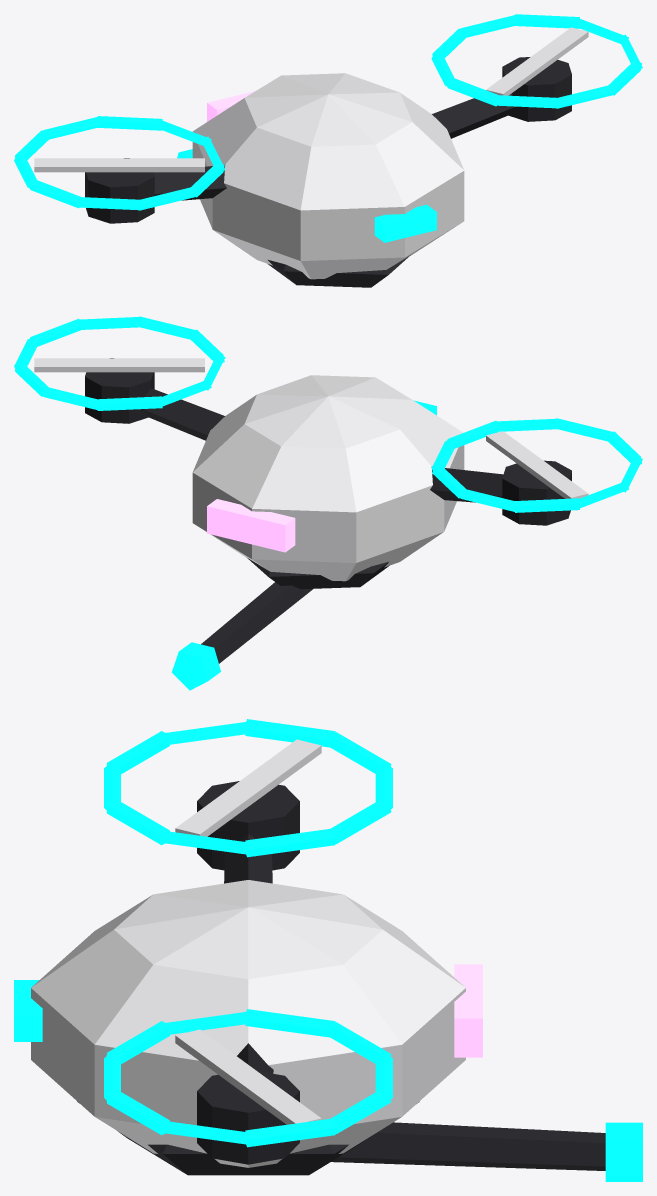
The model's file is SentryDrone.fbx.
3 views of the same model, one above another, from view 1: azimuth 30°, elevation 25°; view 2: azimuth 150°, elevation 25°; view 3: azimuth 270°, elevation 25° (orthographic). The views are drawn at different scales.
Parts seen in each view (by area): view 1: Drone_Body, Drone_RotorRing1, Drone_RotorRing-1, Drone_RotorPod-1, Drone_RotorBlade-1, Drone_RotorPod1, Drone_RotorBlade1, Drone_RotorArm1, Drone_TailLight, Drone_Belly, Drone_RotorArm-1, Drone_Eye; view 2: Drone_Body, Drone_RotorRing-1, Drone_RotorRing1, Drone_Eye, Drone_Gun, Drone_RotorBlade1, Drone_RotorPod1, Drone_RotorPod-1, Drone_RotorBlade-1, Drone_RotorArm1, Drone_GunMuzzle, Drone_Belly (+1 smaller); view 3: Drone_Body, Drone_RotorRing1, Drone_RotorRing-1, Drone_Gun, Drone_RotorPod1, Drone_RotorPod-1, Drone_RotorBlade-1, Drone_RotorBlade1, Drone_Belly, Drone_Eye, Drone_GunMuzzle, Drone_TailLight (+1 smaller).
Boxes of the visible parts, box(x1,y1,x2,y2) form: Drone_Body: box(192, 73, 464, 279); Drone_RotorRing1: box(431, 14, 642, 108); Drone_RotorRing-1: box(14, 116, 225, 210); Drone_RotorPod-1: box(85, 158, 154, 223); Drone_RotorBlade-1: box(34, 158, 204, 172); Drone_RotorPod1: box(502, 57, 571, 121); Drone_RotorBlade1: box(486, 27, 588, 95); Drone_RotorArm1: box(432, 93, 517, 138); Drone_TailLight: box(374, 204, 436, 242); Drone_Belly: box(268, 255, 410, 287); Drone_RotorArm-1: box(153, 164, 226, 200); Drone_Eye: box(207, 91, 255, 121); Drone_Body: box(192, 375, 464, 581); Drone_RotorRing-1: box(431, 418, 642, 512); Drone_RotorRing1: box(14, 316, 225, 410); Drone_Eye: box(207, 499, 295, 552); Drone_Gun: box(201, 582, 313, 663); Drone_RotorBlade1: box(34, 358, 204, 372); Drone_RotorPod1: box(85, 358, 154, 423); Drone_RotorPod-1: box(502, 460, 571, 525); Drone_RotorBlade-1: box(486, 431, 588, 498); Drone_RotorArm1: box(140, 388, 224, 440); Drone_GunMuzzle: box(171, 642, 220, 690); Drone_Belly: box(247, 558, 389, 589); Drone_Body: box(31, 880, 465, 1167); Drone_RotorRing1: box(104, 1009, 392, 1147); Drone_RotorRing-1: box(104, 719, 392, 857); Drone_Gun: box(331, 1122, 605, 1170); Drone_RotorPod1: box(197, 1071, 299, 1164); Drone_RotorPod-1: box(197, 781, 299, 870); Drone_RotorBlade-1: box(175, 739, 321, 836); Drone_RotorBlade1: box(175, 1029, 321, 1124); Drone_Belly: box(77, 1101, 419, 1175); Drone_Eye: box(454, 964, 482, 1057); Drone_GunMuzzle: box(605, 1122, 642, 1181); Drone_TailLight: box(14, 980, 42, 1041).
Size of the model in its own units: 0.3459 by 0.106 by 0.22.
